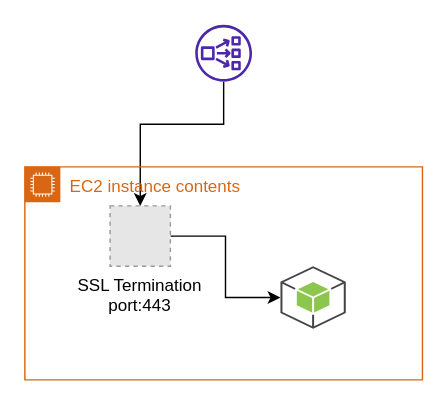
The diagram is 447 pixels wide and 405 high, and some of its shapes have lost their labels. Grey dashed boxes stand in for pictures. Each missing label, with the centre of its shape:
NLB, port: 443: (223,52)
Telegram Bot: port 446: (312,297)
